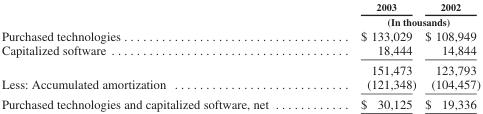table: (0, 0, 479, 110)
table column: (0, 0, 313, 110), (313, 0, 419, 110), (419, 0, 479, 110)
table column header: (0, 0, 479, 27)
table row: (0, 42, 479, 59), (0, 59, 479, 76), (0, 76, 479, 93), (0, 93, 479, 110), (0, 27, 479, 42), (0, 13, 479, 27), (0, 0, 479, 13)
table spanning cell: (313, 13, 479, 27)
